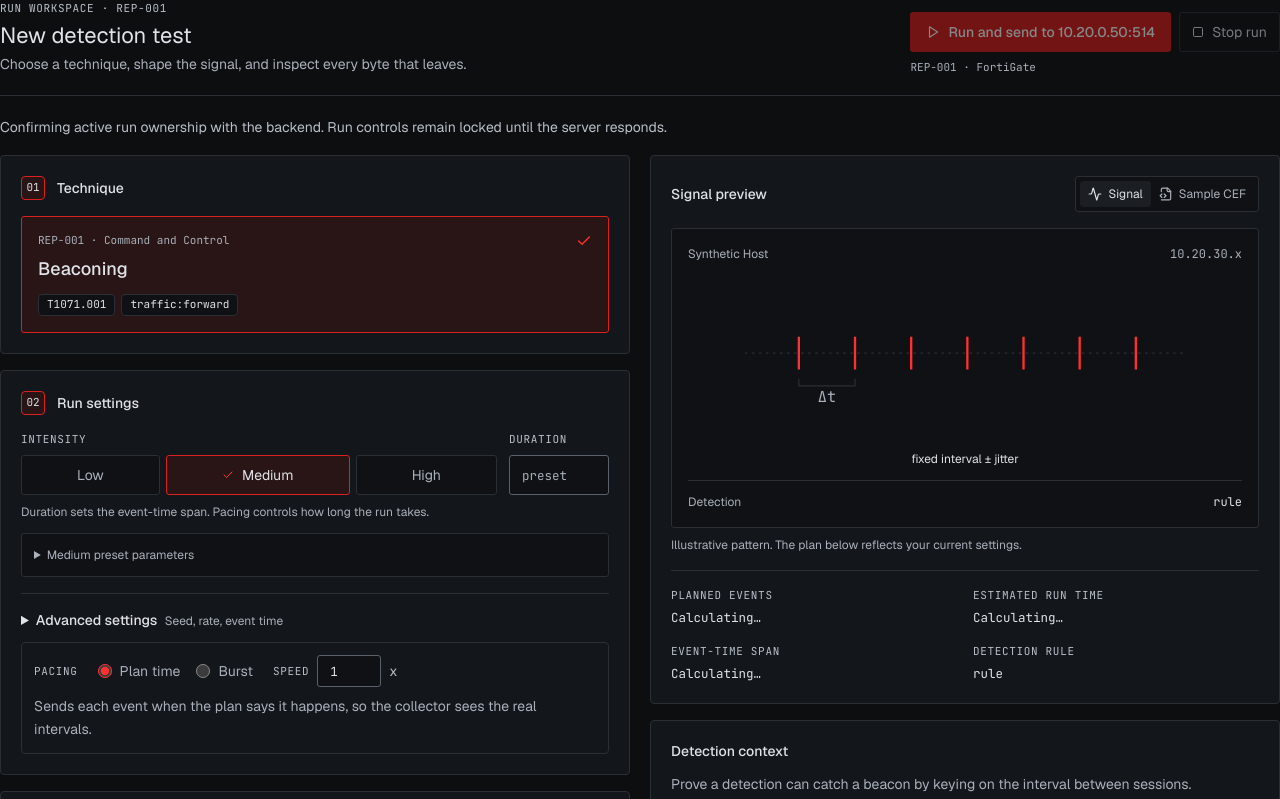
Test: RunPanel pacing › states what compression costs beside the time it saves
Replace the text in the field labelled "Speed" with "60". click: (349, 671)
box: left=317, top=655, right=381, bottom=687
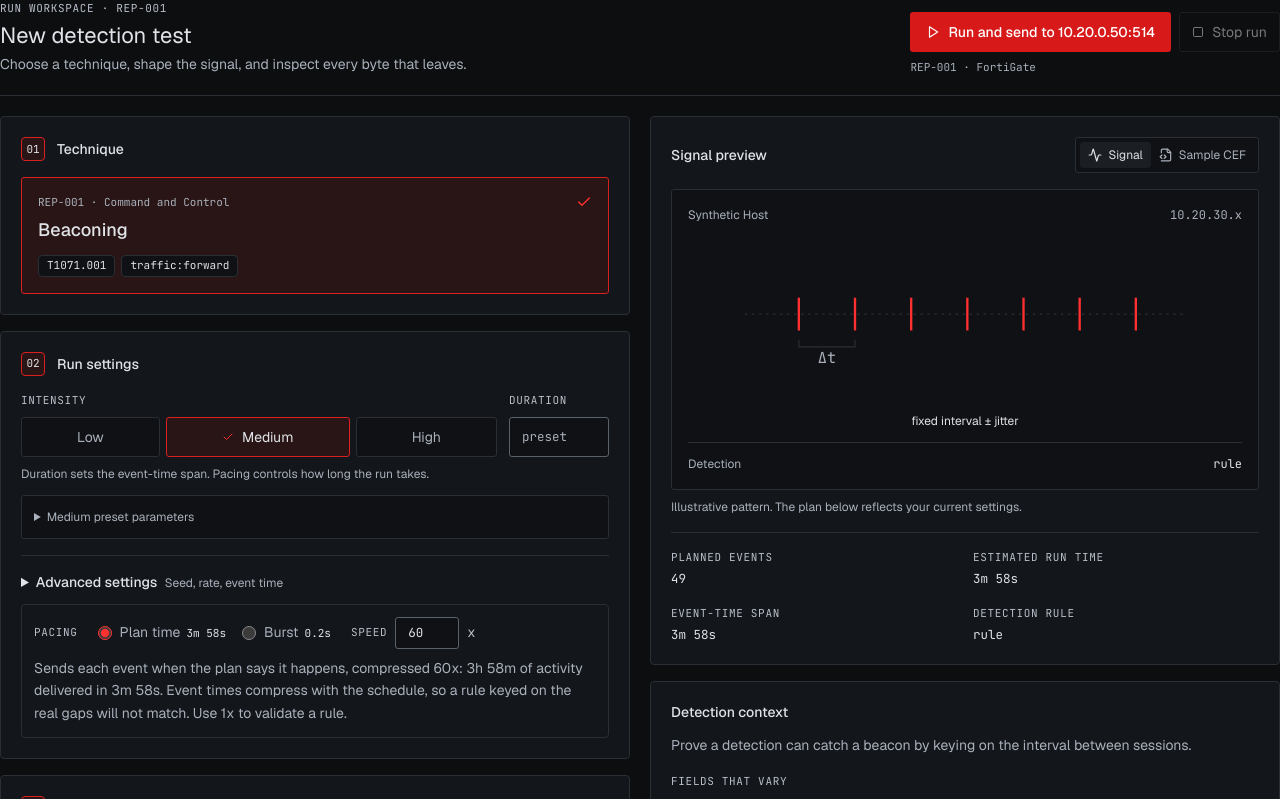
Expected: the text with test id "pace-consequence" shows "will not match", left=34, top=659, right=583, bottom=722
